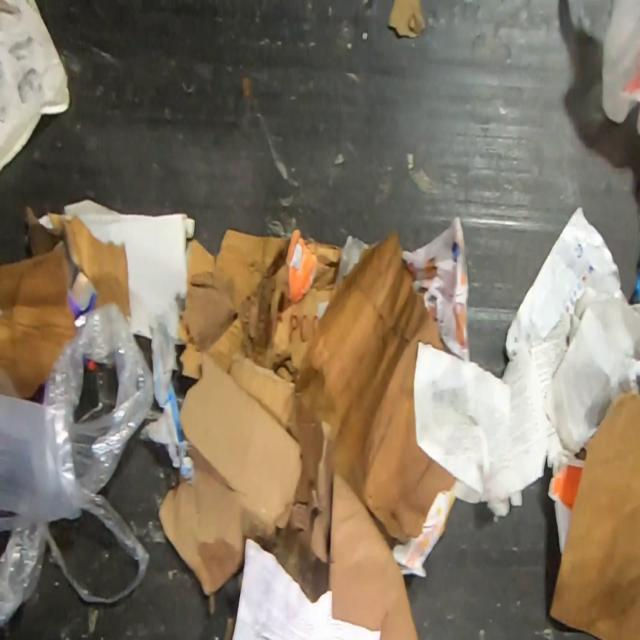cardboard: (156, 353, 302, 599), (174, 226, 343, 431), (0, 203, 132, 399), (254, 349, 334, 605), (0, 0, 72, 172)
soft_plastic: (0, 302, 155, 637), (46, 493, 151, 604), (563, 0, 640, 135)
